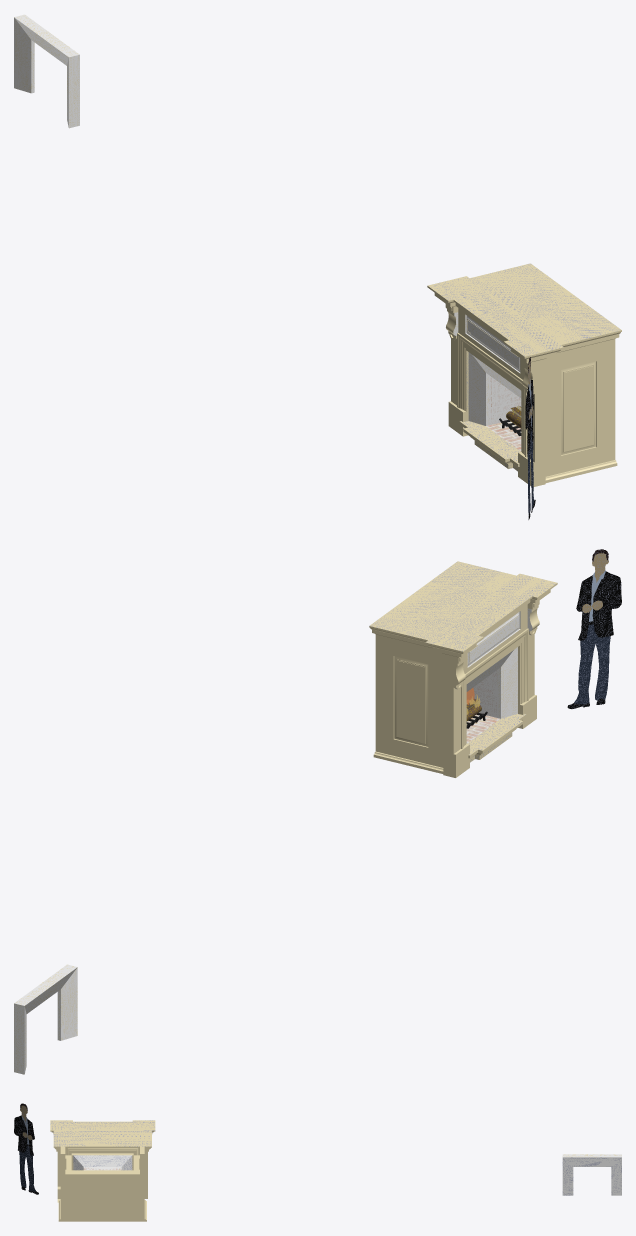
3 renders of one model, top to bottom at view 1: azimuth 30°, elevation 25°; view 2: azimuth 150°, elevation 25°; view 3: azimuth 270°, elevation 25°, orthographic. The views are drawn at different scales.
Parts seen in each view (by area): view 1: group_0 (×4), SketchUp (×3); view 2: group_0 (×4), SketchUp (×3), _2D_Man_Casual (×2); view 3: group_0 (×2), SketchUp (×3), _2D_Man_Casual (×2).
Part boxes in pixels (bbox=[...]): group_0 (×4): bbox=[427, 263, 621, 486]; SketchUp (×3): bbox=[14, 14, 521, 425]; group_0 (×4): bbox=[369, 561, 557, 777]; SketchUp (×3): bbox=[14, 647, 517, 1074]; _2D_Man_Casual (×2): bbox=[574, 571, 621, 704]; group_0 (×2): bbox=[50, 1120, 155, 1221]; SketchUp (×3): bbox=[73, 1154, 621, 1195]; _2D_Man_Casual (×2): bbox=[14, 1115, 35, 1191].
Size of the model in its own units: 60.56 by 445 by 70.01.
16 materials, 1 textured.
